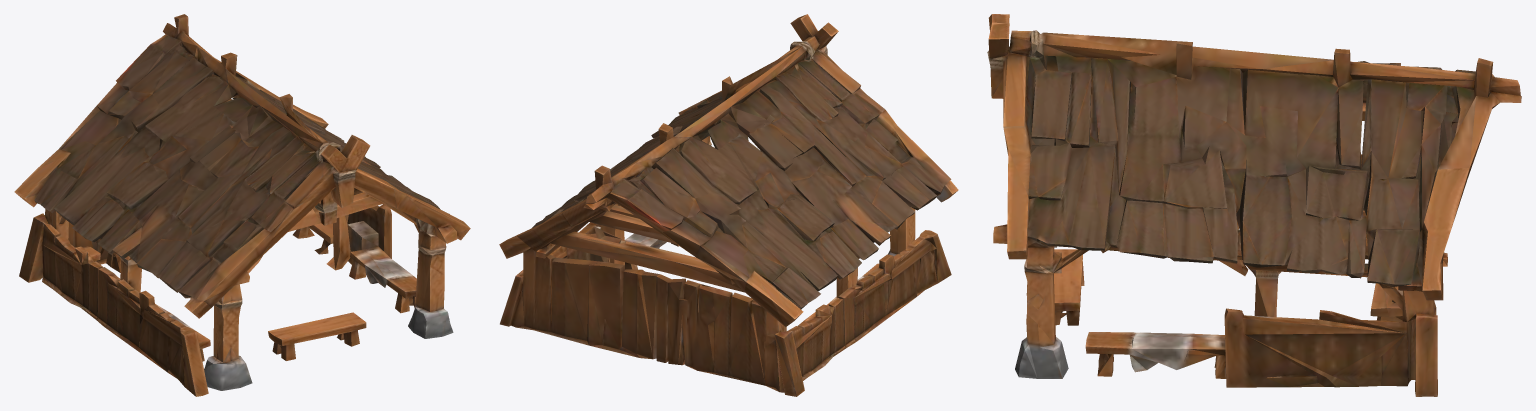
Rendered from gathering-shelter.glb.
3 renders of one model, left to right at view 1: azimuth 30°, elevation 25°; view 2: azimuth 150°, elevation 25°; view 3: azimuth 270°, elevation 25°, orthographic. The views are drawn at different scales.
Parts seen in each view (by area): view 1: output_unwrapped; view 2: output_unwrapped; view 3: output_unwrapped.
Boxes of the visible parts, left/top/right/bottom form: output_unwrapped: left=14, top=14, right=470, bottom=396; output_unwrapped: left=499, top=14, right=958, bottom=396; output_unwrapped: left=987, top=14, right=1521, bottom=396.
Bounding box in the file's own units: 4.25 × 3 × 5.03.
Materials: 1 (1 with a texture image).
